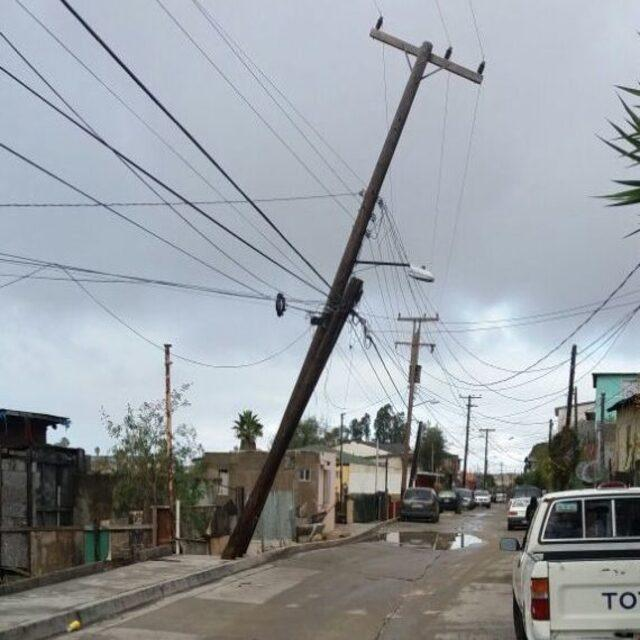Inclined Pole: (216, 15, 494, 557)
